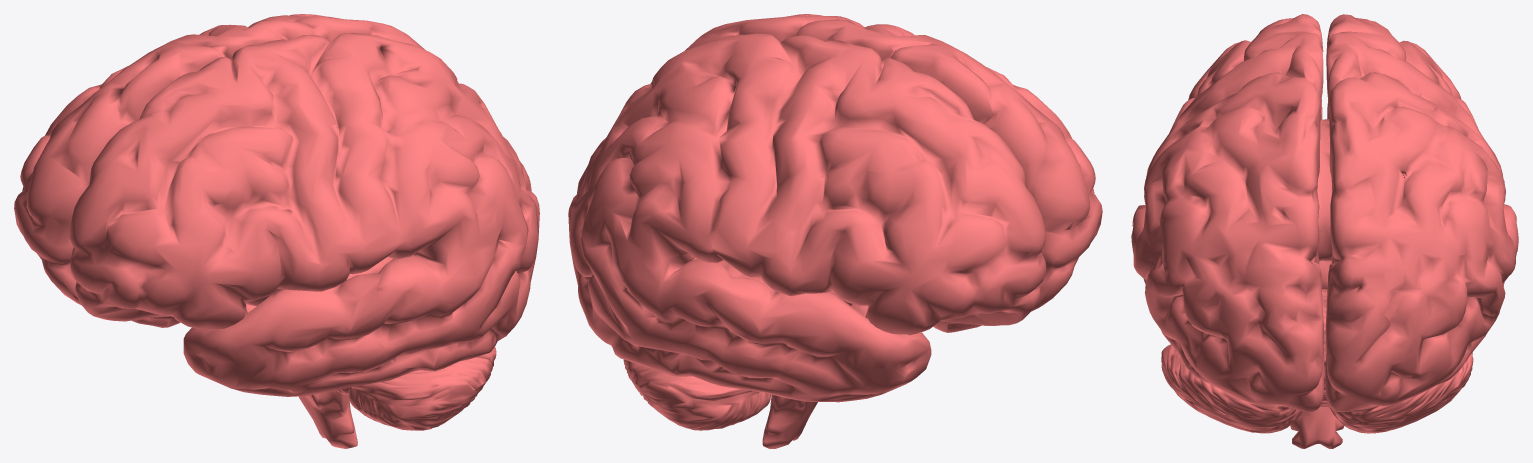
Rendered from brain.dae.
3 renders of one model, left to right at view 1: azimuth 30°, elevation 25°; view 2: azimuth 150°, elevation 25°; view 3: azimuth 270°, elevation 25°, orthographic. The views are drawn at different scales.
Parts seen in each view (by area): view 1: brain; view 2: brain; view 3: brain.
Boxes of the visible parts, left/top/right/bottom form: brain: left=14, top=14, right=539, bottom=448; brain: left=568, top=14, right=1102, bottom=448; brain: left=1131, top=14, right=1518, bottom=448.
Size of the model in its own units: 6.4 by 5.61 by 5.29.
